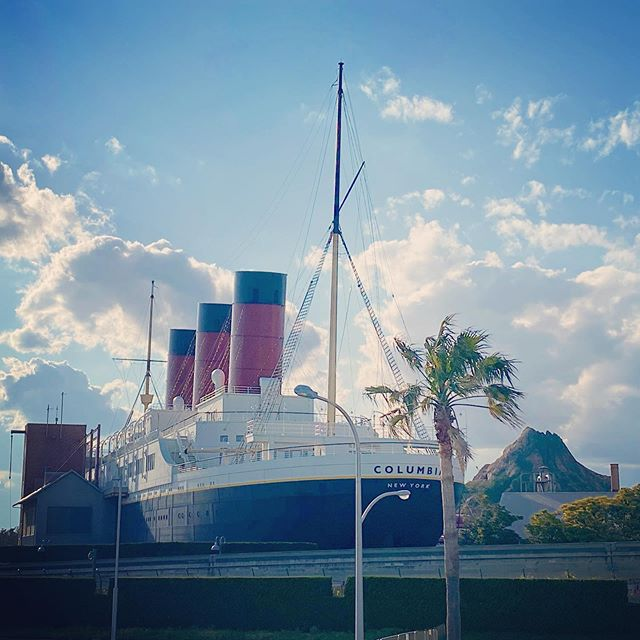boat: (71, 254, 451, 567)
mountain: (474, 404, 627, 504)
sky: (1, 1, 627, 399)
tree: (394, 320, 522, 639)
